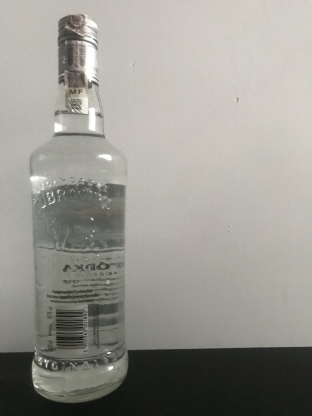nakretka: (55, 11, 102, 86)
